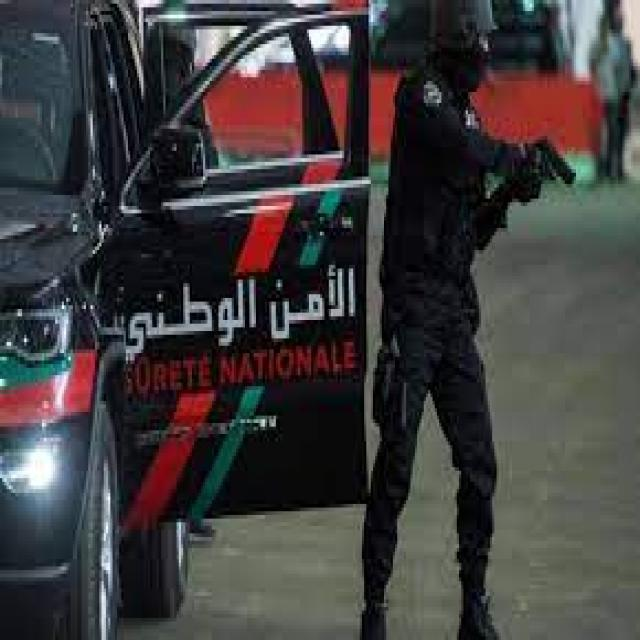police: (5, 10, 380, 638)
